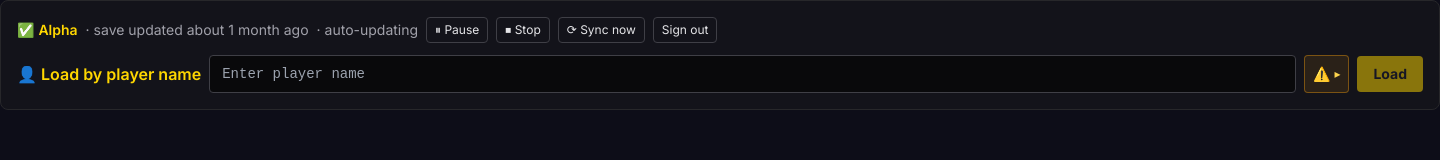
Test case: ProfileNameLoader — game account › Pause / Resume / Stop drive the session mode
The image size is (1440, 160).
What coordinates should you click on to do the following:
click the button "⏸ Pause"
I would click on:
 (457, 30)
Its box is [426,17,488,43].
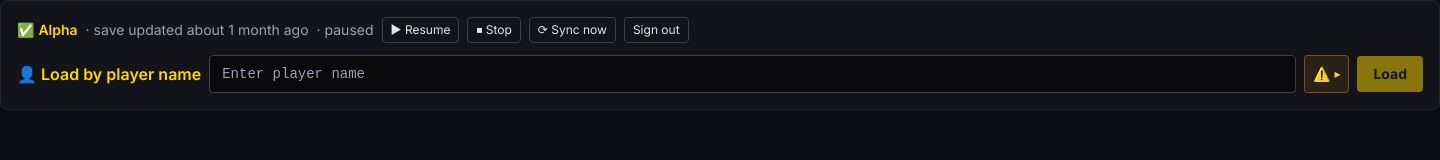
What coordinates should you click on to do the following:
click the button "▶ Resume"
I would click on:
 (420, 30)
Its box is [382,17,459,43].
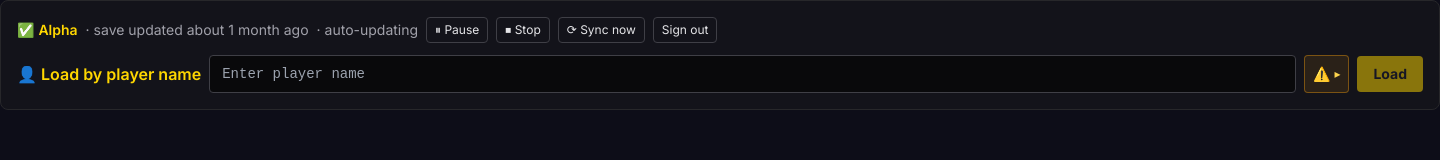
What coordinates should you click on to do the following:
click the button "⏹ Stop"
I would click on:
 (523, 30)
Its box is [496,17,550,43].
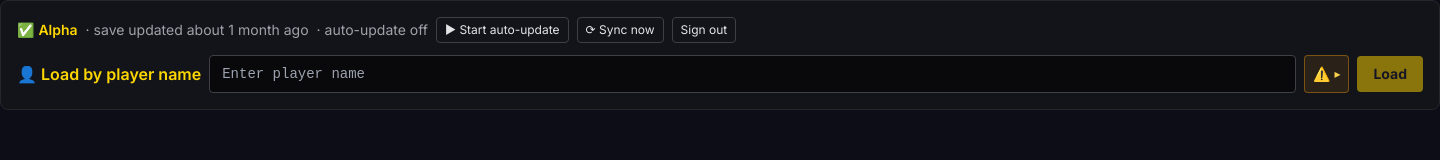
Expected: the button "▶ Start auto-update" is shown, [436,17,568,43]
